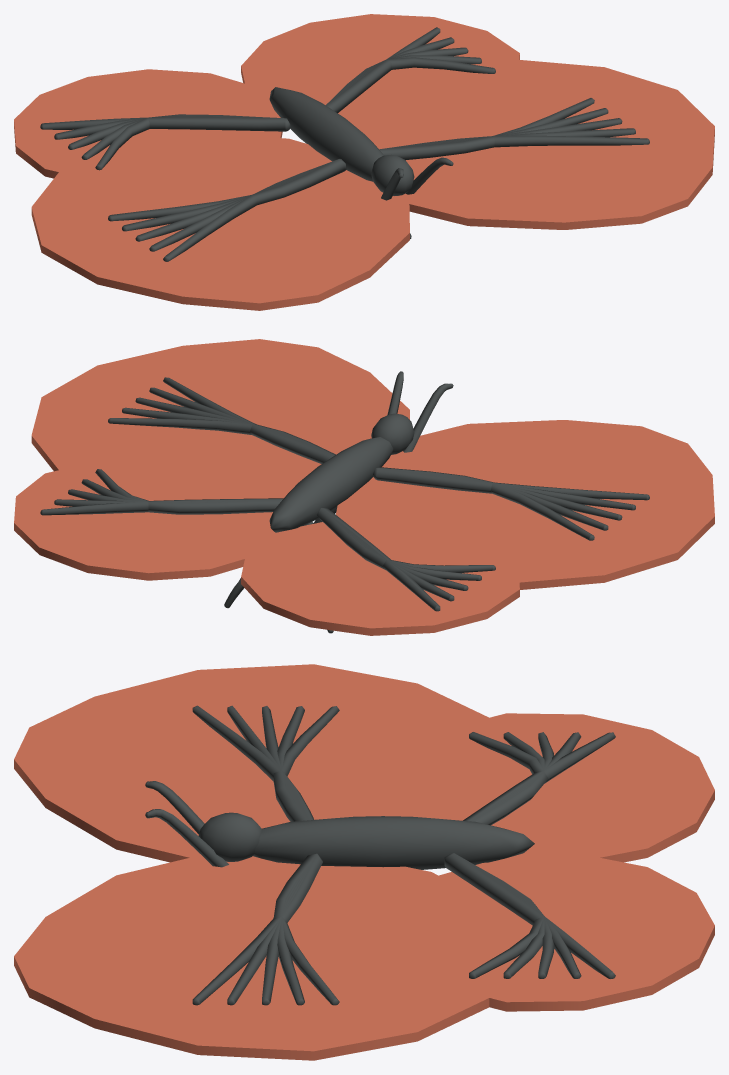
The model's file is birds-and-flying-creatures-monarch-butterfly-afa9b12d__20654.glb.
The picture shows the model from 3 angles, top to bottom: view 1: azimuth 30°, elevation 25°; view 2: azimuth 150°, elevation 25°; view 3: azimuth 270°, elevation 25°; orthographic projection. The views are drawn at different scales.
Visible parts, largest first — view 1: monarch-butterfly; view 2: monarch-butterfly; view 3: monarch-butterfly.
Part boxes in pixels (x1,y1,x2,y2): monarch-butterfly: [14, 14, 714, 310]; monarch-butterfly: [14, 339, 714, 635]; monarch-butterfly: [14, 664, 714, 1060].
Bounding box in the file's own units: 0.1326 × 0.0273 × 0.1015.
